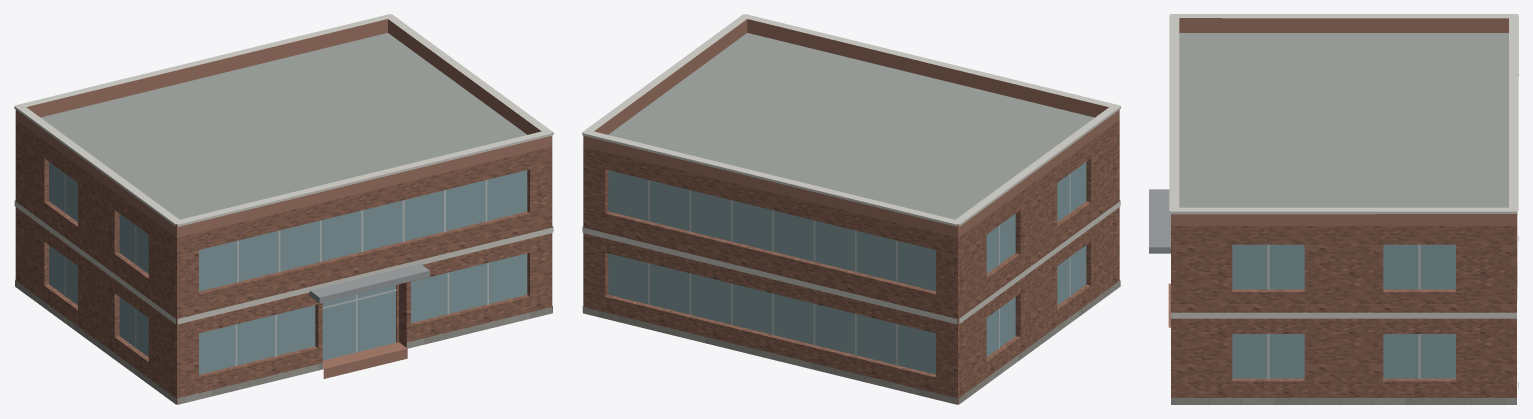
The picture shows the model from 3 angles, left to right: view 1: azimuth 30°, elevation 25°; view 2: azimuth 150°, elevation 25°; view 3: azimuth 270°, elevation 25°; orthographic projection. The views are drawn at different scales.
Parts seen in each view (by area): view 1: solpark__wall, solpark__roof, solpark__glass, solpark__parapet, solpark__trim, solpark__base, solpark__canopy, solpark__frame, solpark__entranceThreshold; view 2: solpark__wall, solpark__roof, solpark__glass, solpark__parapet, solpark__trim, solpark__base, solpark__frame; view 3: solpark__roof, solpark__wall, solpark__glass, solpark__trim, solpark__parapet, solpark__base, solpark__canopy, solpark__frame.
Boxes of the visible parts, x1=… form: solpark__wall: x1=15, y1=120, x2=552, y2=404; solpark__roof: x1=40, y1=33, x2=526, y2=404; solpark__glass: x1=49, y1=162, x2=527, y2=374; solpark__parapet: x1=15, y1=19, x2=552, y2=237; solpark__trim: x1=14, y1=14, x2=553, y2=324; solpark__base: x1=15, y1=279, x2=552, y2=404; solpark__canopy: x1=309, y1=263, x2=429, y2=303; solpark__frame: x1=64, y1=173, x2=488, y2=365; solpark__entranceThreshold: x1=322, y1=342, x2=407, y2=378; solpark__wall: x1=583, y1=120, x2=1119, y2=404; solpark__roof: x1=608, y1=33, x2=1094, y2=404; solpark__glass: x1=608, y1=162, x2=1086, y2=374; solpark__parapet: x1=583, y1=19, x2=1119, y2=237; solpark__trim: x1=582, y1=14, x2=1120, y2=324; solpark__base: x1=582, y1=280, x2=1120, y2=404; solpark__frame: x1=648, y1=173, x2=1070, y2=365; solpark__roof: x1=1179, y1=33, x2=1517, y2=300; solpark__wall: x1=1171, y1=211, x2=1517, y2=397; solpark__glass: x1=1232, y1=244, x2=1455, y2=378; solpark__trim: x1=1169, y1=14, x2=1518, y2=318; solpark__parapet: x1=1171, y1=18, x2=1516, y2=225; solpark__base: x1=1171, y1=382, x2=1518, y2=404; solpark__canopy: x1=1149, y1=189, x2=1170, y2=253; solpark__frame: x1=1267, y1=244, x2=1420, y2=378.
Bounding box in the file's own units: 17.1 × 8.2 × 13.51.
10 materials, 2 textured.
